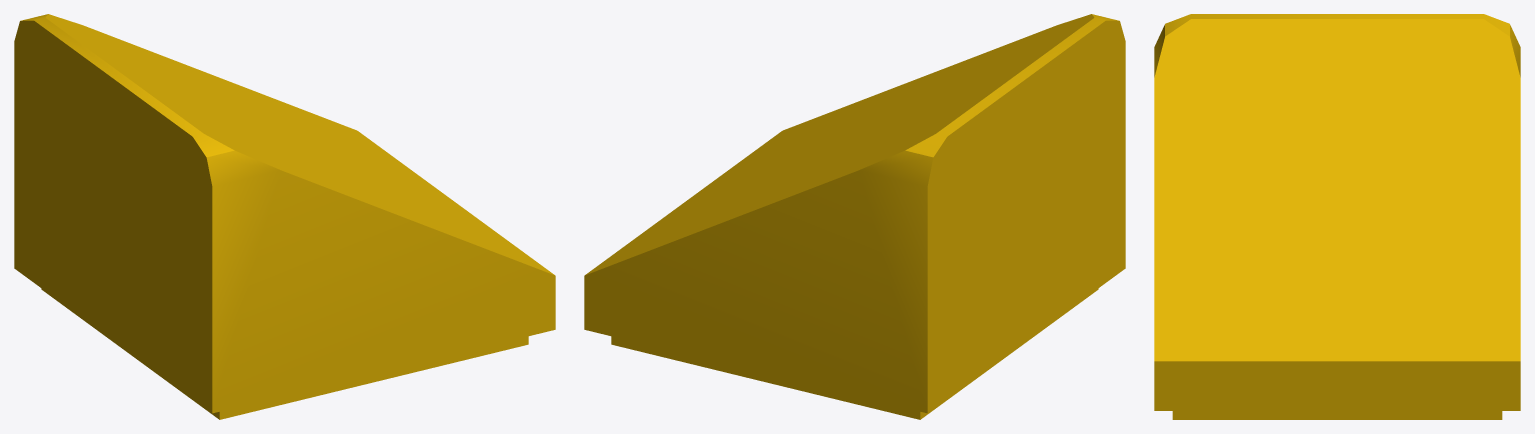
Rendered from slope_1x1_54200.glb.
3 renders of one model, left to right at view 1: azimuth 30°, elevation 25°; view 2: azimuth 150°, elevation 25°; view 3: azimuth 270°, elevation 25°, orthographic. The views are drawn at different scales.
Parts seen in each view (by area): view 1: 00001_54200.dat; view 2: 00001_54200.dat; view 3: 00001_54200.dat.
Boxes of the visible parts, x1,y1,x2,y2 form: 00001_54200.dat: (14,14,555,419); 00001_54200.dat: (584,14,1125,419); 00001_54200.dat: (1154,14,1520,419).
Size of the model in its own units: 0.8 by 0.624 by 0.8.
